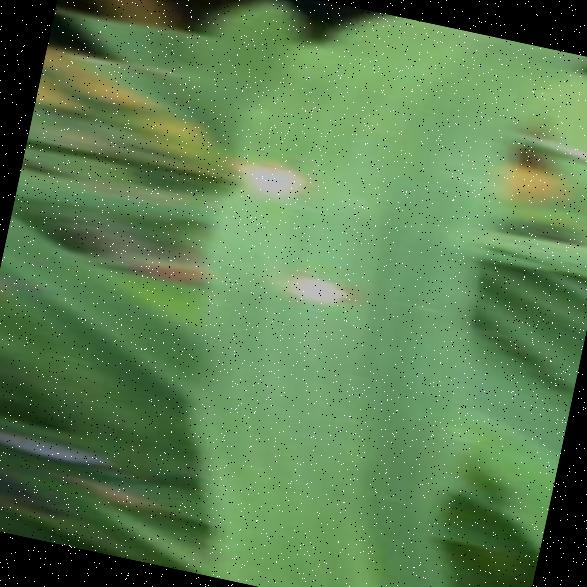Leaf_smut: (237, 240, 384, 344), (200, 138, 312, 220)
